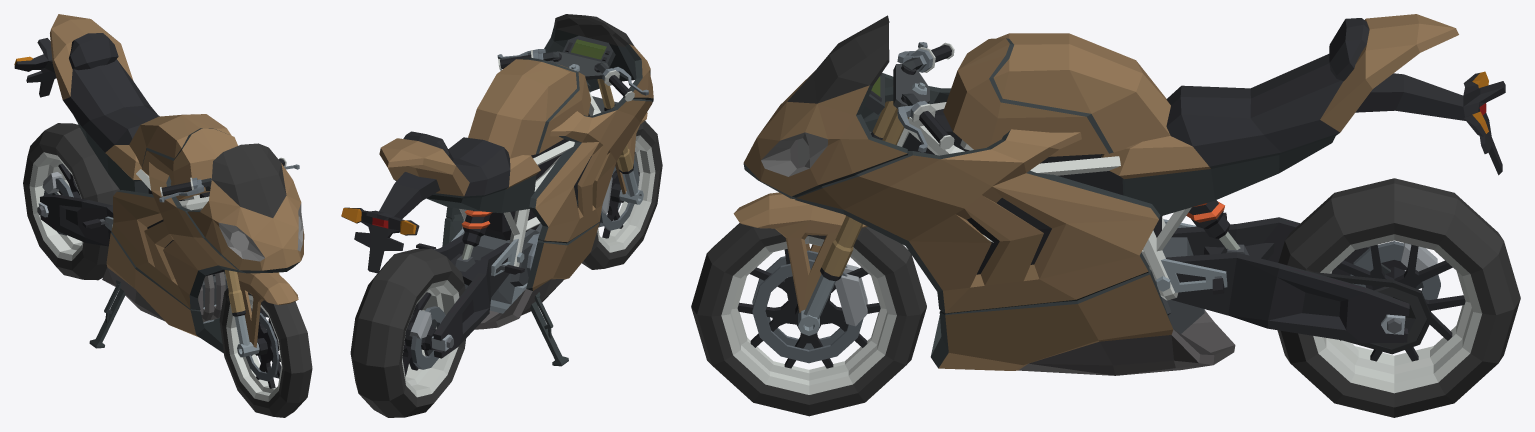
Rendered from redline_street_motorbike.glb.
The picture shows the model from 3 angles, left to right: view 1: azimuth 30°, elevation 25°; view 2: azimuth 150°, elevation 25°; view 3: azimuth 270°, elevation 25°; orthographic projection. The views are drawn at different scales.
Visible parts, largest first — view 1: Body, Wheel_FR; view 2: Body, Wheel_FR; view 3: Body, Wheel_FR.
Boxes of the visible parts, x1,y1,x2,y2 form: Body: [14, 14, 304, 357]; Wheel_FR: [219, 288, 312, 417]; Body: [341, 14, 653, 417]; Wheel_FR: [582, 121, 662, 269]; Body: [733, 14, 1520, 417]; Wheel_FR: [691, 223, 926, 416].
Bounding box in the file's own units: 1.34 × 2.28 × 4.4.
Materials: 2 (2 with a texture image).
